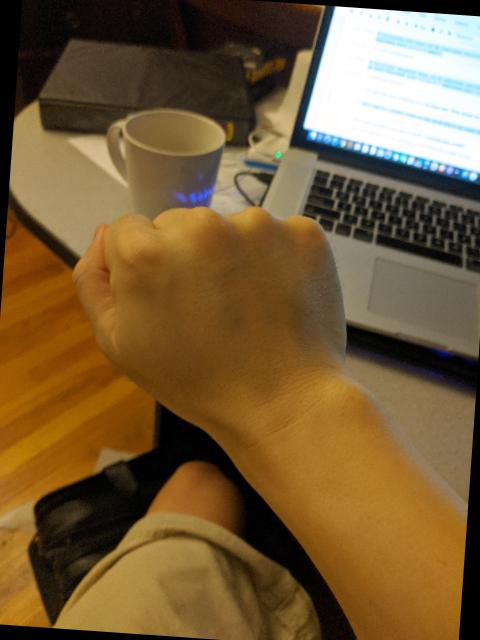A: (55, 185, 368, 437)
